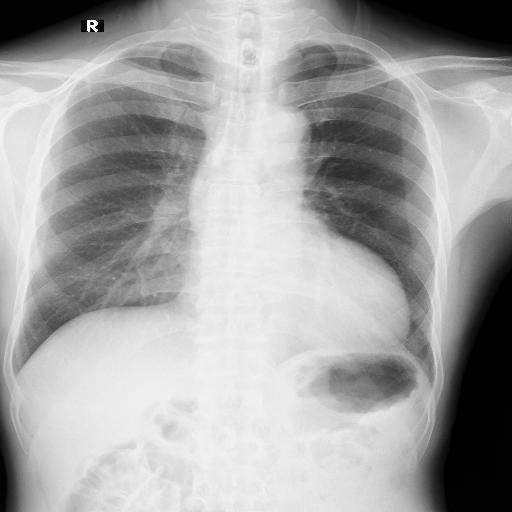Cardiomegaly: (60, 206, 294, 302)
